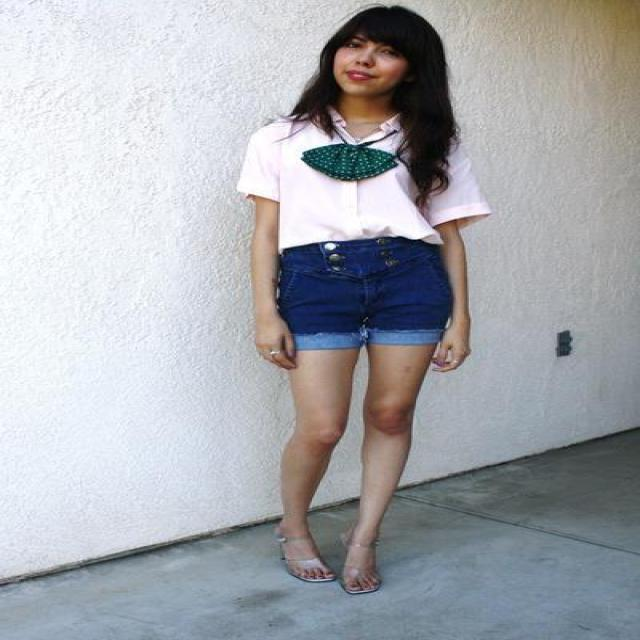shirt: (237, 110, 488, 248)
shoe: (277, 559, 384, 594)
shorts: (272, 236, 453, 350)
